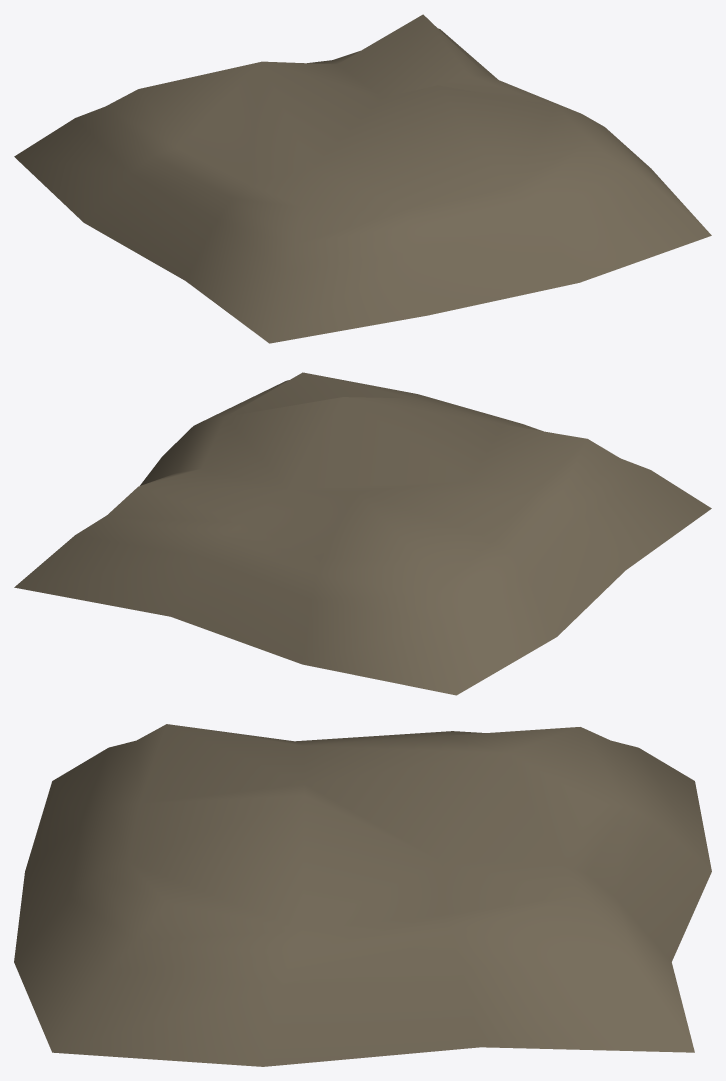
Rendered from fbx_field_model.fbx.
The picture shows the model from 3 angles, top to bottom: view 1: azimuth 30°, elevation 25°; view 2: azimuth 150°, elevation 25°; view 3: azimuth 270°, elevation 25°; orthographic projection. The views are drawn at different scales.
Parts seen in each view (by area): view 1: Field; view 2: Field; view 3: Field.
Part boxes in pixels (x1,y1,x2,y2): Field: [14, 14, 711, 343]; Field: [14, 372, 711, 695]; Field: [14, 724, 711, 1066].
Bounding box in the file's own units: 217 × 51.51 × 217.
